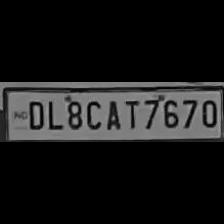0: (198, 96, 218, 128)
6: (159, 97, 179, 129)
7: (140, 96, 158, 130), (179, 96, 197, 130)
8: (64, 96, 82, 130)
A: (103, 97, 123, 130)
C: (82, 96, 102, 130)
D: (23, 98, 44, 130)
L: (44, 97, 62, 131)
T: (122, 96, 140, 130)
